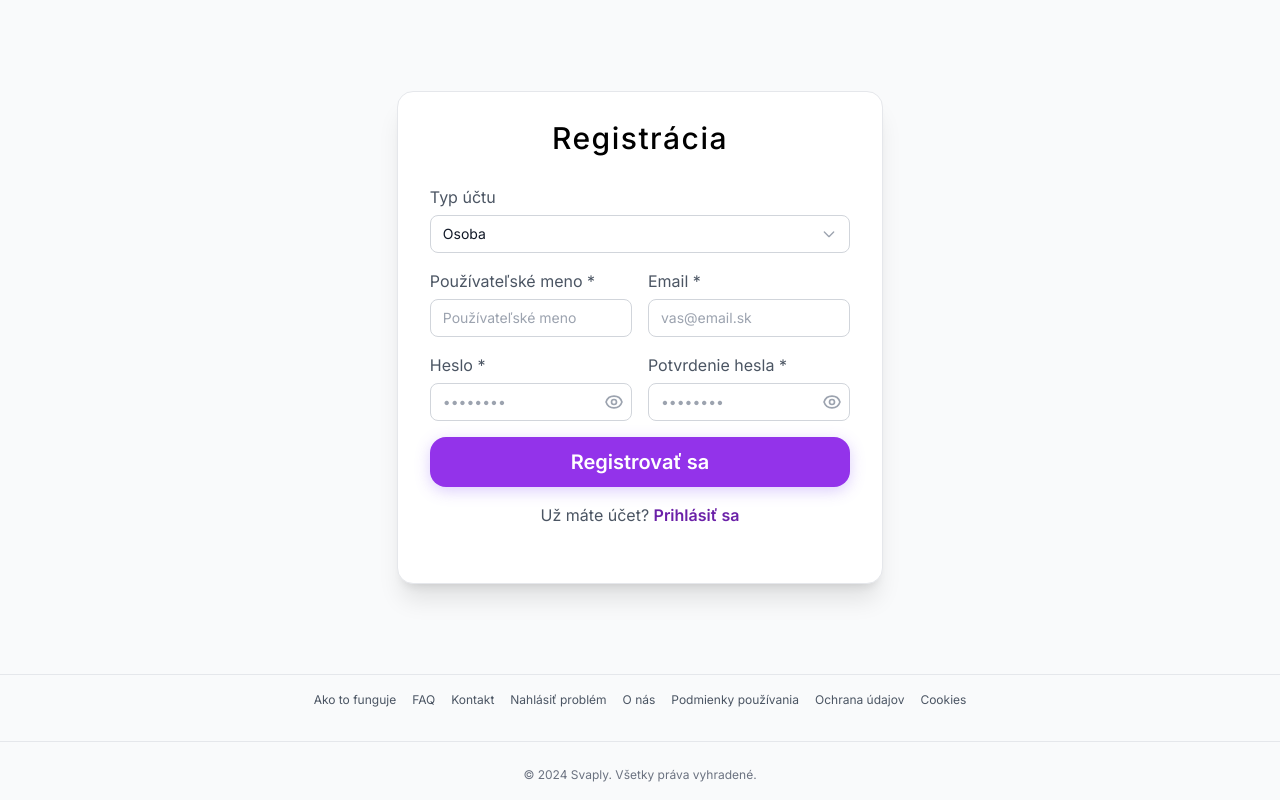
it: RegisterForm › shows company fields when company type is selected
Step 1. Click the button with aria-label "Vyberte typ účtu" → [464, 233], box [430,214,850,252]
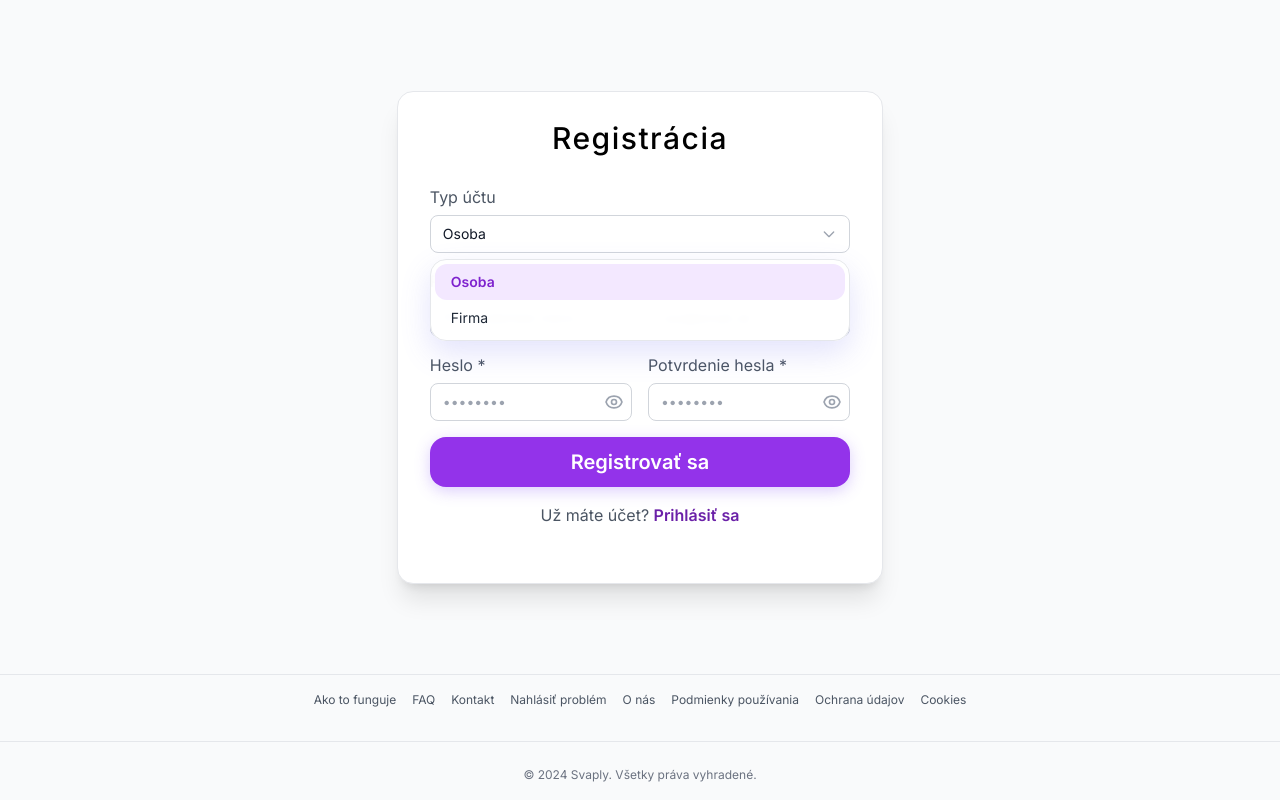
Expected: the list is shown, [430,258,850,340]
Step 2. Click the option "Firma" → [469, 317], box [435,300,845,336]
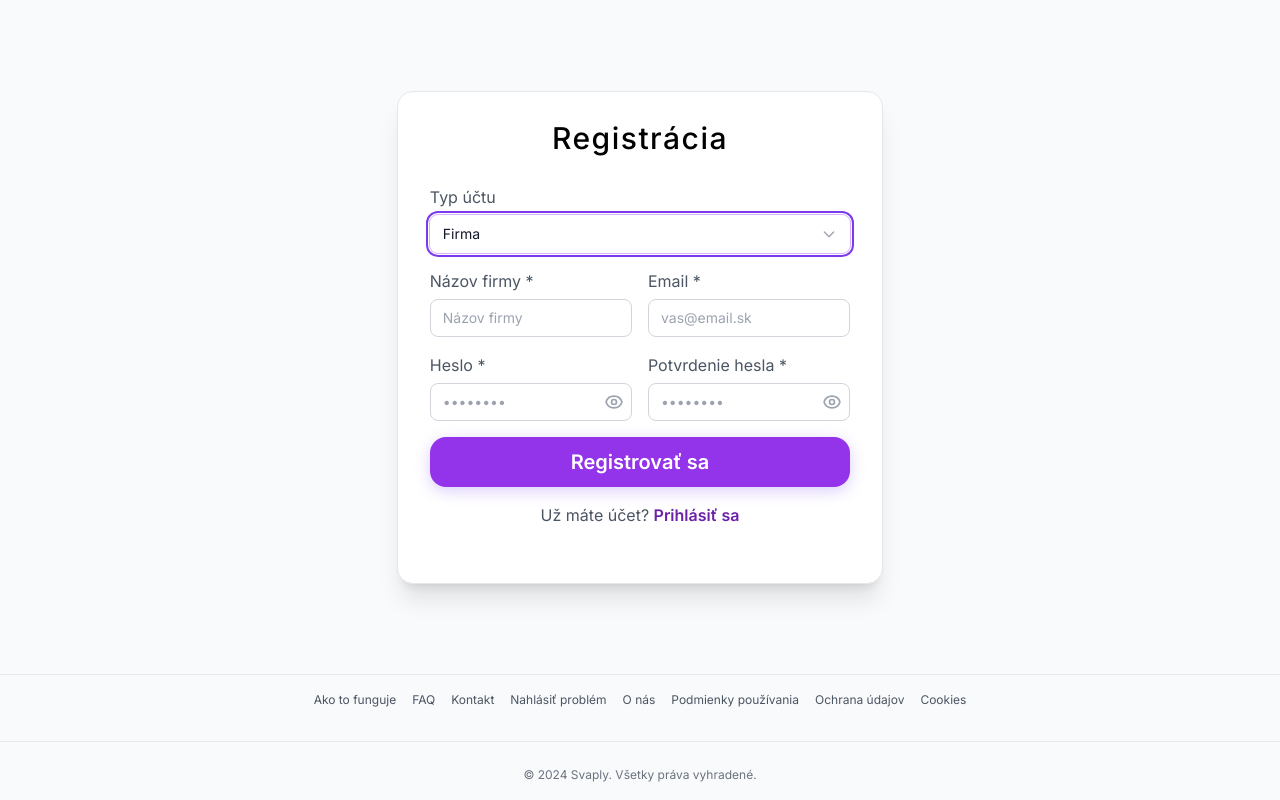
Expected: the field labelled "Názov firmy *" is shown, [430,298,632,336]
